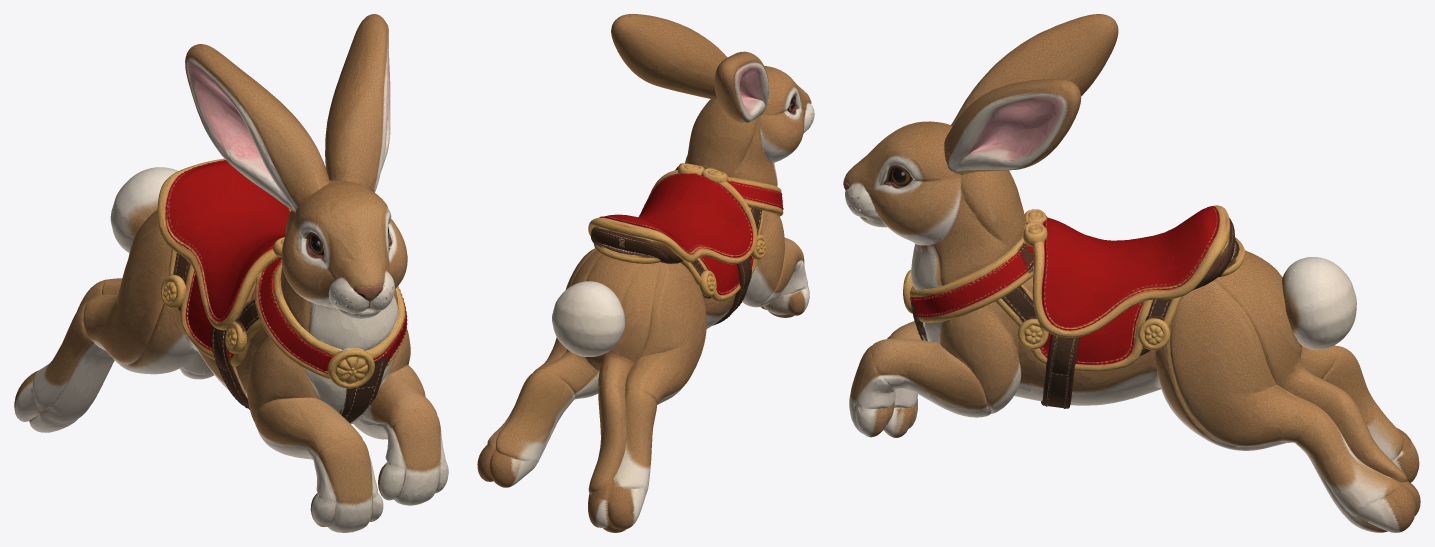
Rendered from rabbit.glb.
The picture shows the model from 3 angles, left to right: view 1: azimuth 30°, elevation 25°; view 2: azimuth 150°, elevation 25°; view 3: azimuth 270°, elevation 25°; orthographic projection. The views are drawn at different scales.
Size of the model in its own units: 0.7389 by 1.74 by 1.9.
1 material, 1 textured.
